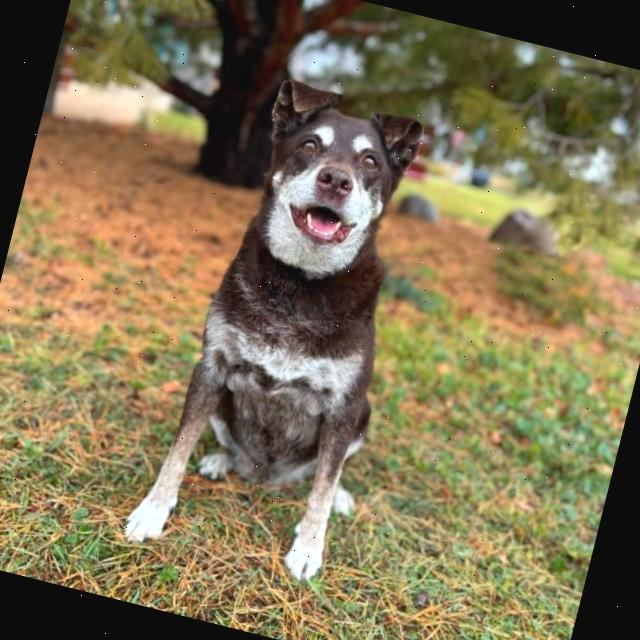labrador_retriever_dog: (217, 59, 444, 282)
